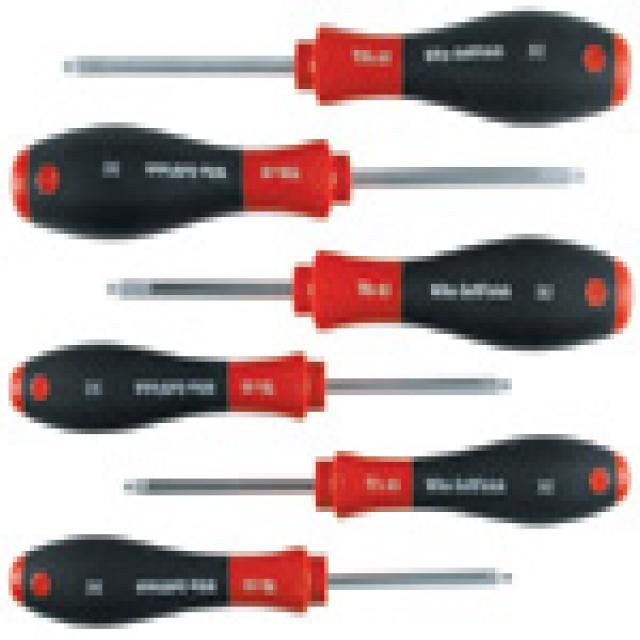Screwdriver: (0, 103, 594, 240), (43, 2, 640, 130), (85, 217, 640, 351), (0, 517, 512, 640), (1, 330, 522, 445), (115, 429, 640, 534)
